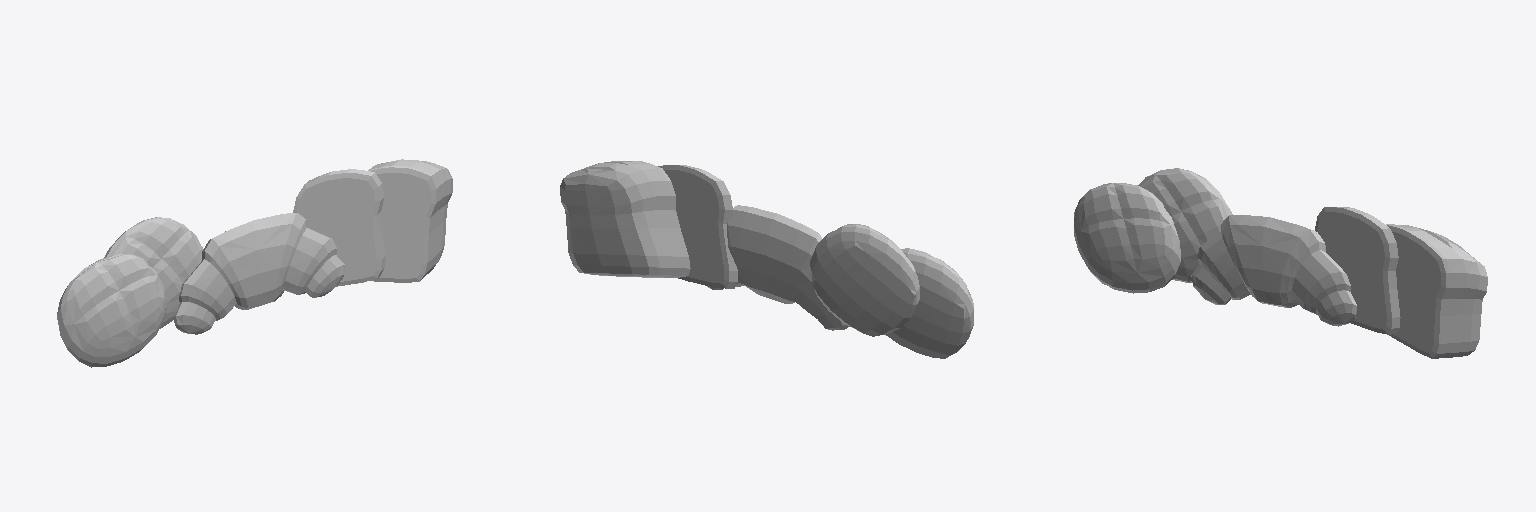
Rendered from bakery_sign_B.obj.
3 views of the same model, side by side, from view 1: azimuth 30°, elevation 25°; view 2: azimuth 150°, elevation 25°; view 3: azimuth 330°, elevation 25° (orthographic).
Parts seen in each view (by area): view 1: bakery_sign_B; view 2: bakery_sign_B; view 3: bakery_sign_B.
Boxes of the visible parts, <box> form: bakery_sign_B: <box>57,159,452,367</box>; bakery_sign_B: <box>560,161,973,358</box>; bakery_sign_B: <box>1074,168,1487,358</box>.
Bounding box in the file's own units: 5.04 × 1.6 × 0.5276.